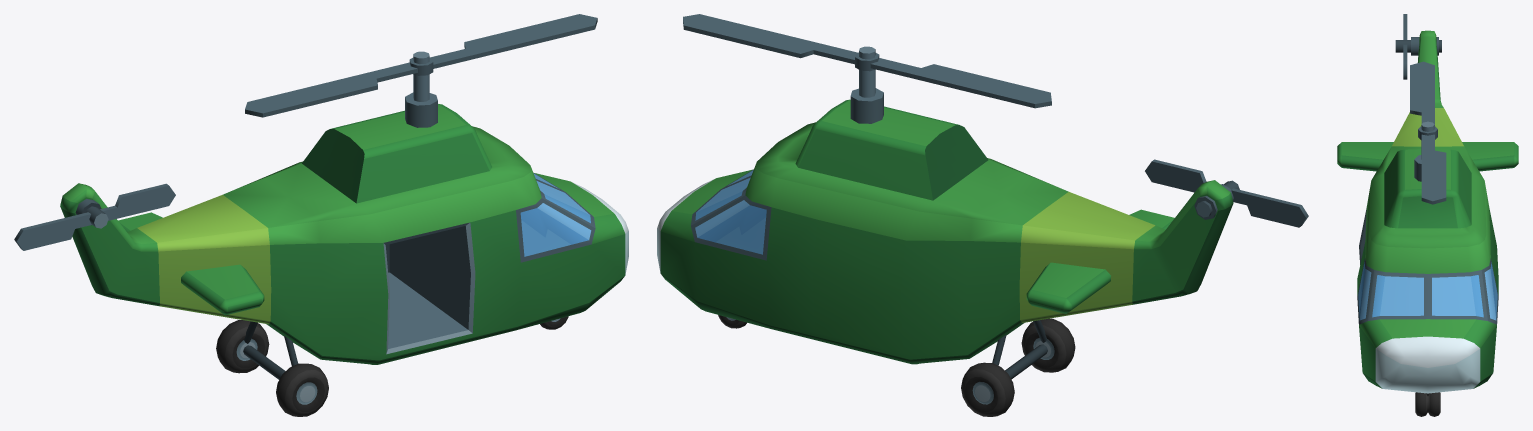
The model's file is helicopter.fbx.
The picture shows the model from 3 angles, left to right: view 1: azimuth 30°, elevation 25°; view 2: azimuth 150°, elevation 25°; view 3: azimuth 270°, elevation 25°; orthographic projection. The views are drawn at different scales.
Visible parts, largest first — view 1: helicopter_body, propeller_big, propeller_small; view 2: helicopter_body, propeller_big, propeller_small; view 3: helicopter_body, propeller_big, propeller_small.
Boxes of the visible parts, x1,y1,x2,y2 form: helicopter_body: [60, 51, 628, 416]; propeller_big: [245, 14, 597, 117]; propeller_small: [14, 183, 175, 250]; helicopter_body: [657, 46, 1239, 416]; propeller_big: [683, 14, 1051, 108]; propeller_small: [1145, 159, 1308, 227]; helicopter_body: [1337, 30, 1518, 416]; propeller_big: [1410, 61, 1446, 204]; propeller_small: [1403, 14, 1407, 79].
Bounding box in the file's own units: 10.67 × 5.08 × 3.46.
